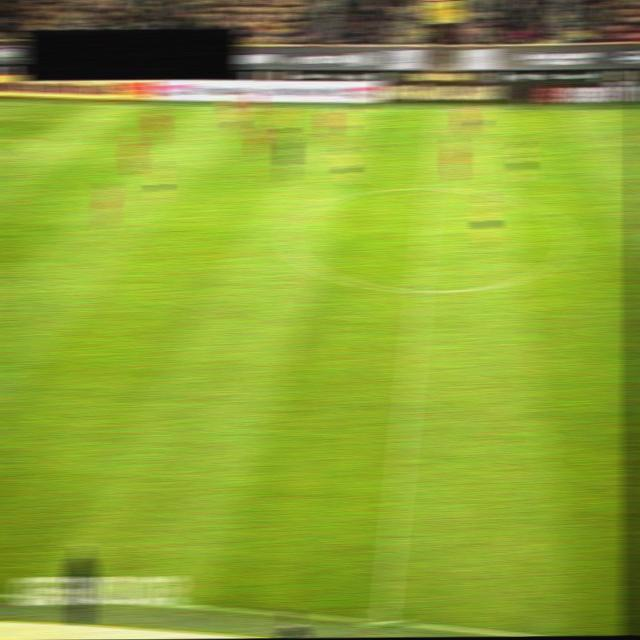bigarea_top_inner: (22, 134, 41, 146)
halfcircle_bottom: (406, 283, 432, 300)
halfcircle_top: (419, 182, 441, 194)
midline_bottom_intersection: (361, 608, 410, 635)
midline_top_intersection: (429, 104, 449, 116)
